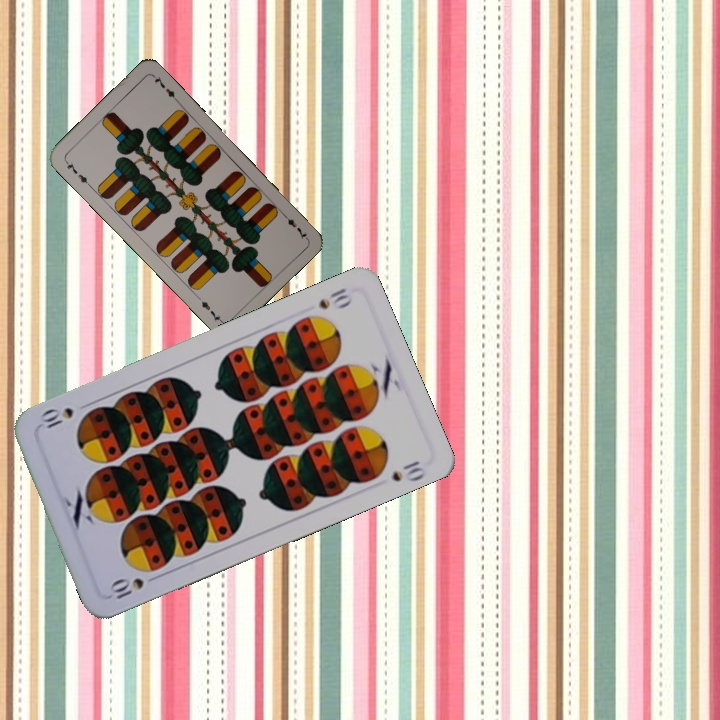E7: (278, 208, 310, 242), (61, 156, 93, 189)
S10: (105, 573, 147, 604), (314, 284, 355, 312)
